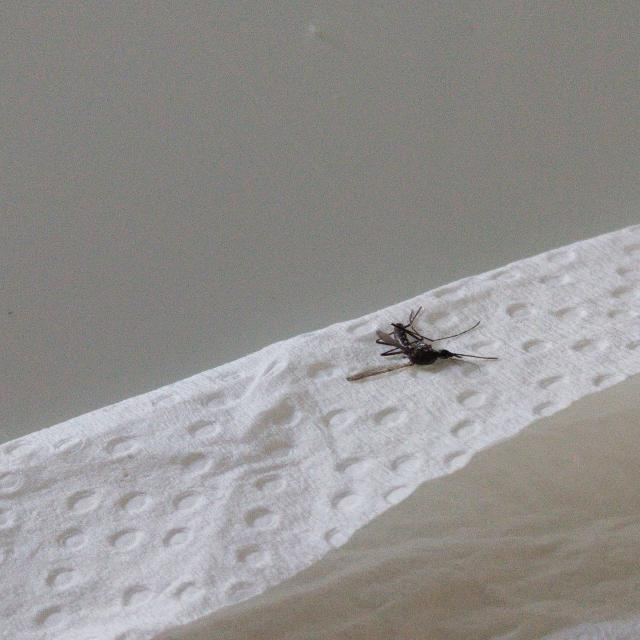albopictus: (351, 300, 497, 384)
